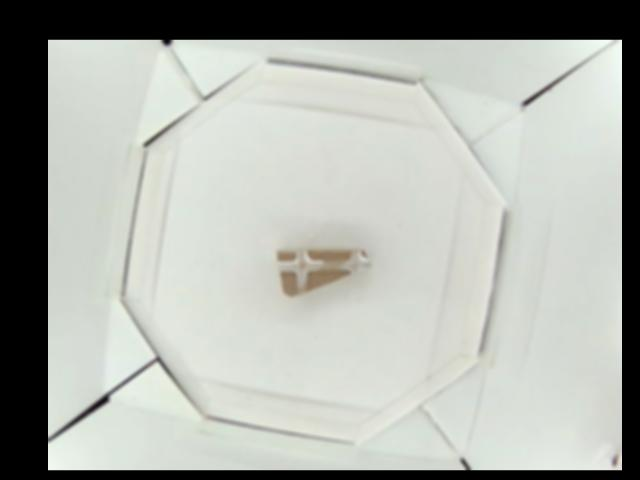China: (274, 246, 371, 297)
